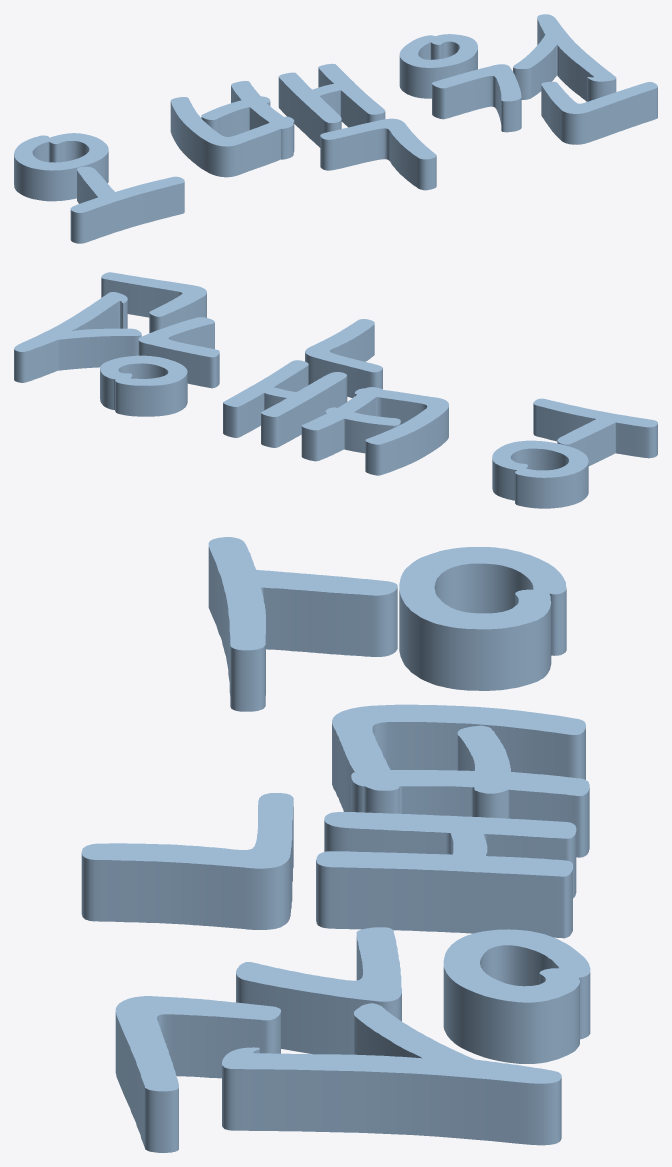
Rendered from obaek.glb.
The picture shows the model from 3 angles, top to bottom: view 1: azimuth 30°, elevation 25°; view 2: azimuth 150°, elevation 25°; view 3: azimuth 270°, elevation 25°; orthographic projection. The views are drawn at different scales.
Parts seen in each view (by area): view 1: Text; view 2: Text; view 3: Text.
Boxes of the visible parts, left/top/right/bottom form: Text: left=14, top=14, right=657, bottom=243; Text: left=14, top=272, right=657, bottom=508; Text: left=81, top=537, right=590, bottom=1152.
Size of the model in its own units: 1.94 by 0.1003 by 0.7511.
